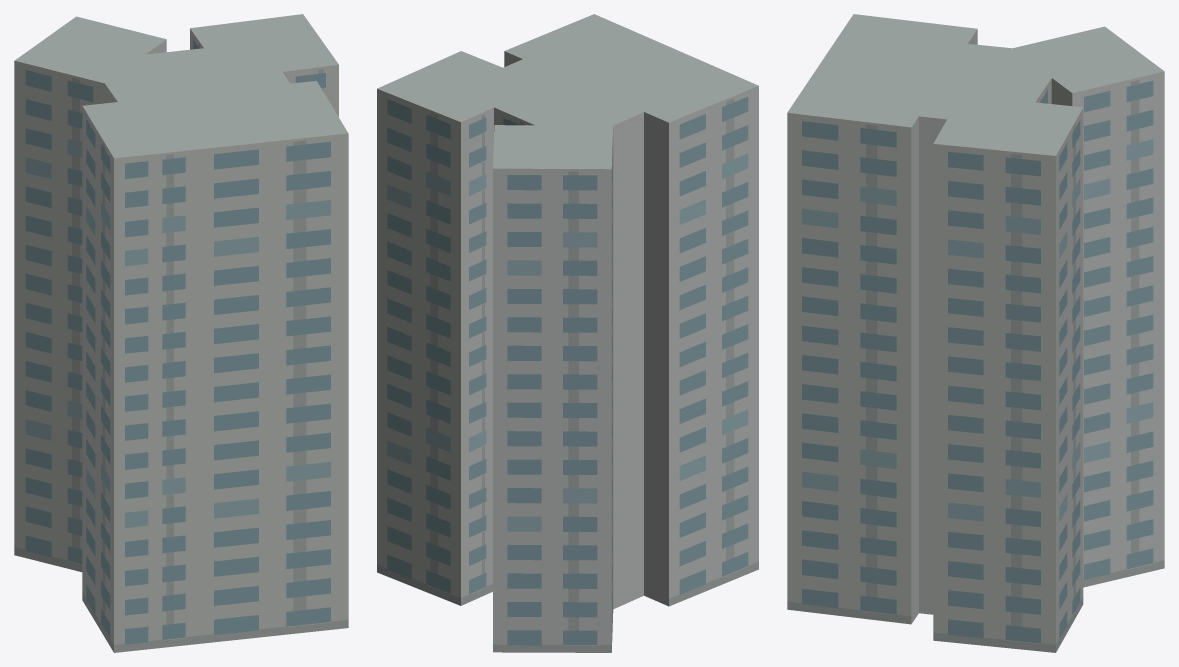
File: residential-dedff6ae-45b7-46a8-9af7-bbf1e881555c.glb
The picture shows the model from 3 angles, left to right: view 1: azimuth 30°, elevation 25°; view 2: azimuth 150°, elevation 25°; view 3: azimuth 270°, elevation 25°; orthographic projection. The views are drawn at different scales.
Parts seen in each view (by area): view 1: residential-dedff6ae-45b7-46a8-9af7-bbf1e881555c.tmp; view 2: residential-dedff6ae-45b7-46a8-9af7-bbf1e881555c.tmp; view 3: residential-dedff6ae-45b7-46a8-9af7-bbf1e881555c.tmp.
Part boxes in pixels (left/top/right/bottom): residential-dedff6ae-45b7-46a8-9af7-bbf1e881555c.tmp: left=14, top=14, right=348, bottom=652; residential-dedff6ae-45b7-46a8-9af7-bbf1e881555c.tmp: left=377, top=14, right=758, bottom=652; residential-dedff6ae-45b7-46a8-9af7-bbf1e881555c.tmp: left=787, top=14, right=1164, bottom=652.
Size of the model in its own units: 30.05 by 49 by 33.75.
